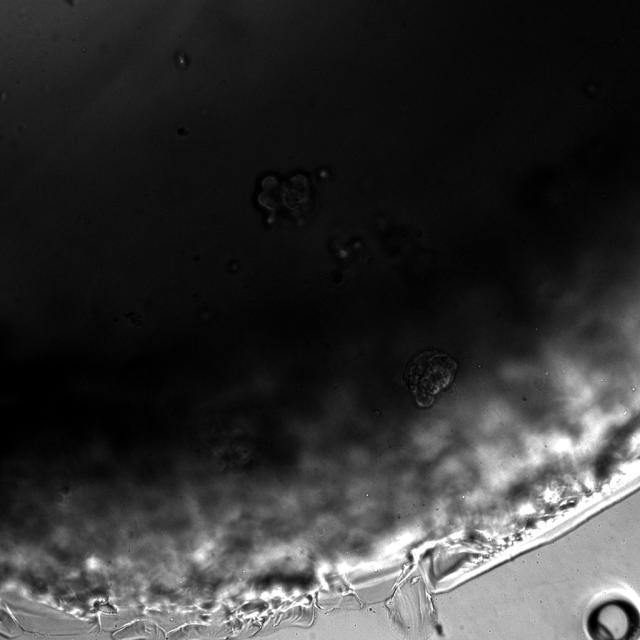organoid: (402, 349, 457, 408), (257, 173, 313, 225), (328, 237, 362, 268), (315, 165, 335, 182)
